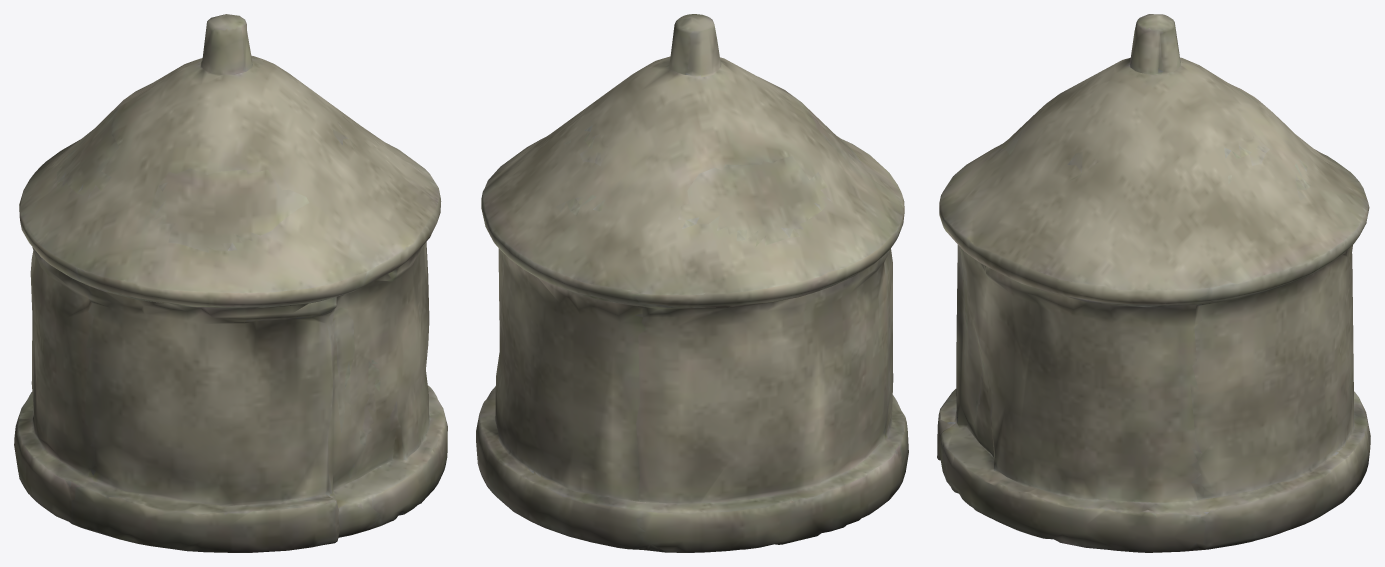
The model's file is chipped-limestone-turret-top-v001.glb.
3 renders of one model, left to right at view 1: azimuth 30°, elevation 25°; view 2: azimuth 150°, elevation 25°; view 3: azimuth 270°, elevation 25°, orthographic.
Parts seen in each view (by area): view 1: chipped-limestone-turret-top; view 2: chipped-limestone-turret-top; view 3: chipped-limestone-turret-top.
Part boxes in pixels (<box>): chipped-limestone-turret-top: <box>14,14,447,552</box>; chipped-limestone-turret-top: <box>476,14,908,552</box>; chipped-limestone-turret-top: <box>937,14,1370,552</box>.
Bounding box in the file's own units: 2.26 × 2.55 × 2.25.
1 material, 1 textured.
